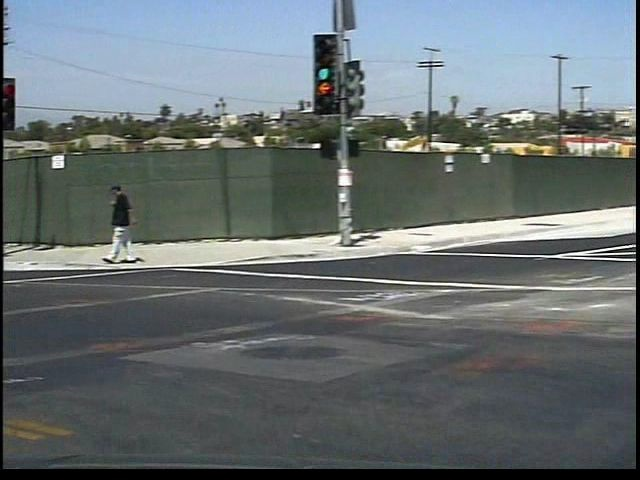person: (90, 180, 135, 278)
